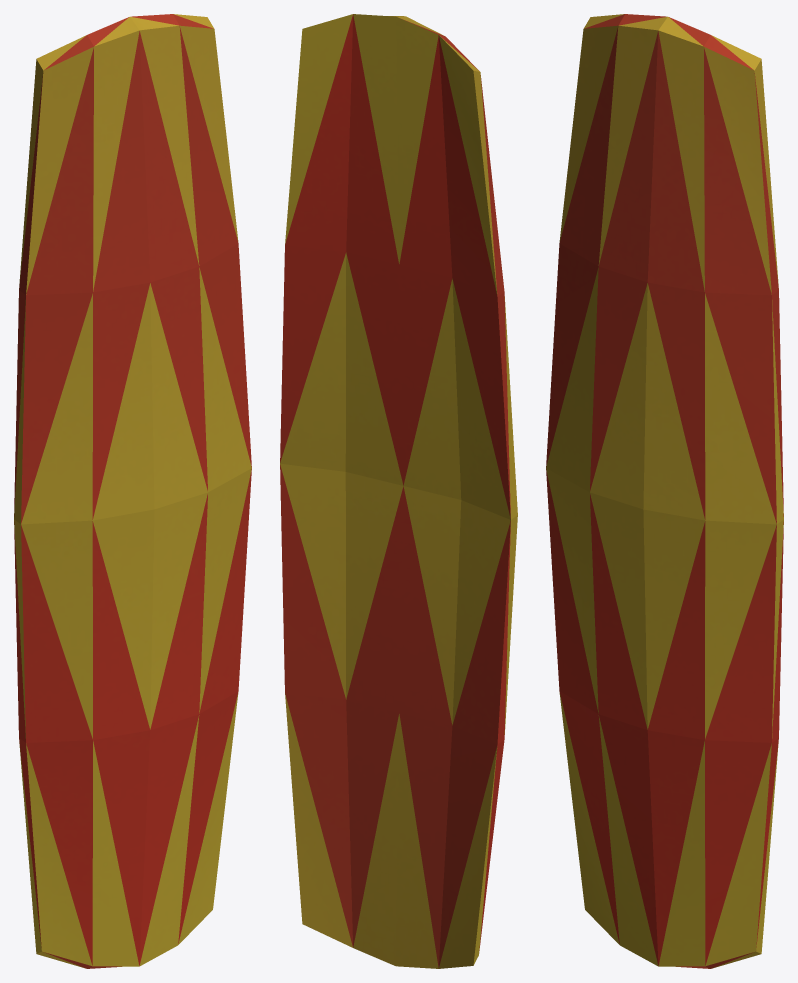
The model's file is Paddle_Board_1.fbx.
The picture shows the model from 3 angles, left to right: view 1: azimuth 30°, elevation 25°; view 2: azimuth 150°, elevation 25°; view 3: azimuth 330°, elevation 25°; orthographic projection.
Visible parts, largest first — view 1: pCube4; view 2: pCube4; view 3: pCube4.
Boxes of the visible parts, left/top/right/bottom form: pCube4: left=14, top=14, right=251, bottom=968; pCube4: left=280, top=14, right=517, bottom=968; pCube4: left=546, top=14, right=783, bottom=968.
Size of the model in its own units: 94.46 by 371 by 23.1.
